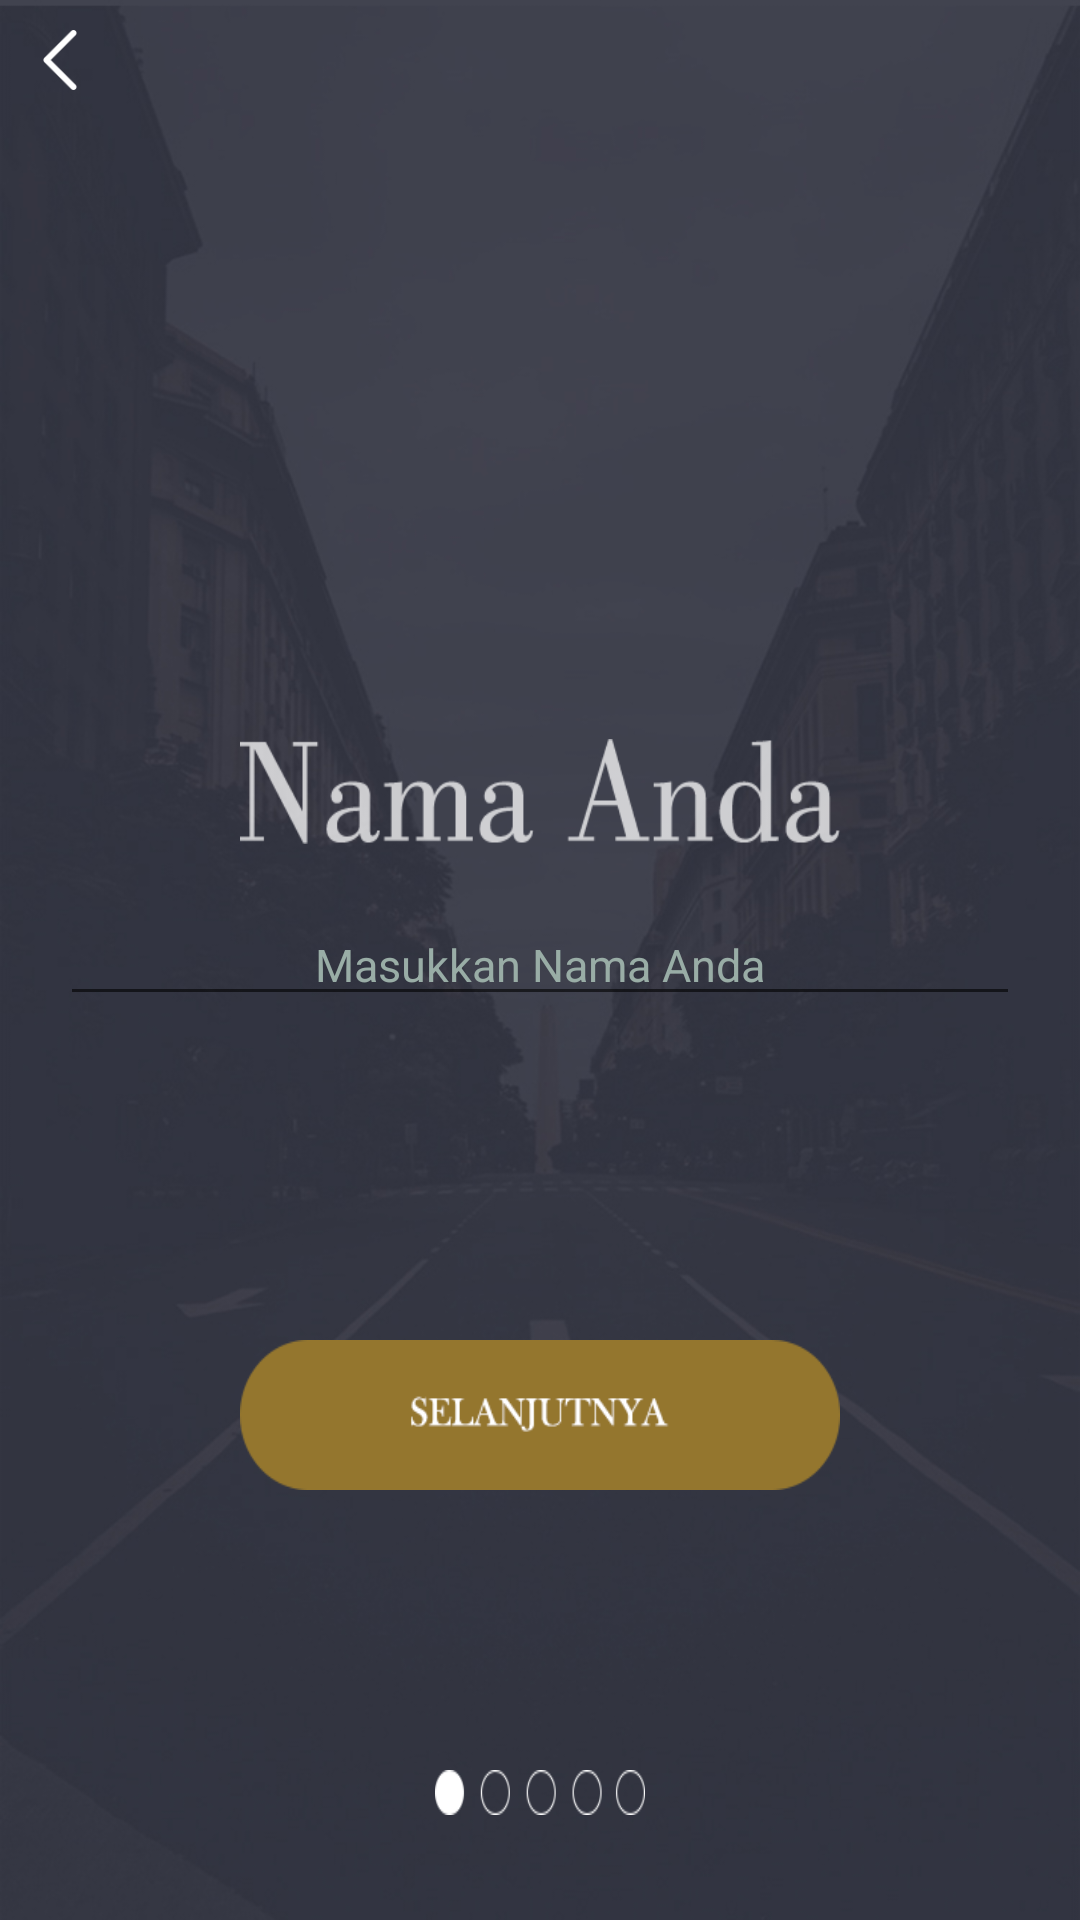

Icons on this 1080x1920 Android screen, each with its box as (x1,y1,x2,y2):
back: (43,30,77,90)
